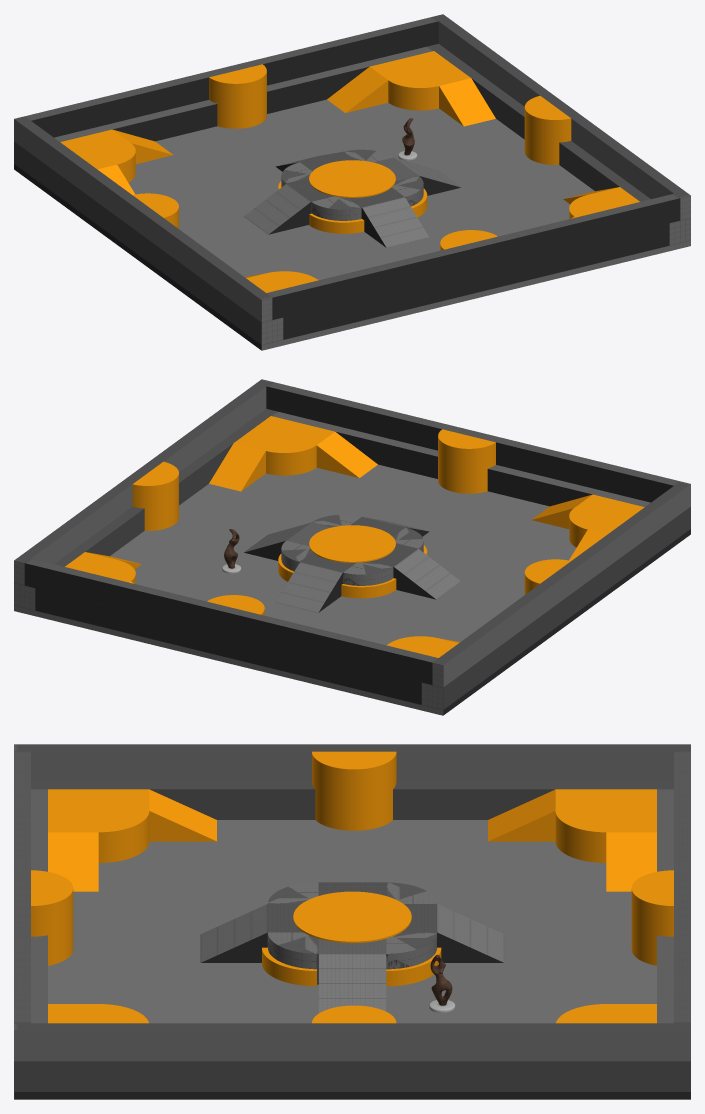
Rendered from Lvl_FirstPerson.gltf.
The picture shows the model from 3 angles, top to bottom: view 1: azimuth 30°, elevation 25°; view 2: azimuth 150°, elevation 25°; view 3: azimuth 270°, elevation 25°; orthographic projection. The views are drawn at different scales.
Parts seen in each view (by area): view 1: Floor, SM_Cube19, SM_Cube18, SM_Cube5, SM_Cube20, SM_Cube17, SM_Cube3, SM_Cube4, SM_Cube2, SM_Cylinder, SM_Ramp12, SM_Ramp9 (+17 smaller); view 2: Floor, SM_Cube18, SM_Cube19, SM_Cube4, SM_Cube20, SM_Cube17, SM_Cube3, SM_Cube5, SM_Cube2, SM_Cylinder, SM_Ramp10, SM_Ramp9 (+18 smaller); view 3: Floor, SM_Cube17, SM_Cube20, SM_Cube2, SM_Cube3, SM_Cylinder, SM_Cube18, SM_Cube19, SM_Ramp11, SM_Cylinder6, SM_Cylinder7, SM_Ramp10 (+34 smaller).
Part boxes in pixels (box(x1,y1,x2,y2)): Floor: box(14, 99, 690, 350); SM_Cube19: box(266, 193, 680, 319); SM_Cube18: box(25, 17, 438, 137); SM_Cube5: box(283, 223, 669, 339); SM_Cube20: box(14, 116, 272, 322); SM_Cube17: box(433, 14, 690, 220); SM_Cube3: box(14, 141, 283, 344); SM_Cube4: box(54, 46, 433, 141); SM_Cube2: box(428, 44, 690, 245); SM_Cylinder: box(309, 160, 395, 197); SM_Ramp12: box(362, 197, 429, 247); SM_Ramp9: box(243, 184, 311, 234); Floor: box(14, 464, 690, 715); SM_Cube18: box(24, 558, 438, 684); SM_Cube19: box(266, 382, 679, 502); SM_Cube4: box(35, 588, 421, 704); SM_Cube20: box(432, 481, 690, 687); SM_Cube17: box(14, 379, 271, 585); SM_Cube3: box(421, 506, 690, 709); SM_Cube5: box(271, 411, 650, 506); SM_Cube2: box(14, 409, 276, 610); SM_Cylinder: box(309, 525, 395, 562); SM_Ramp10: box(275, 562, 342, 612); SM_Ramp9: box(393, 549, 461, 599); Floor: box(14, 820, 690, 1099); SM_Cube17: box(14, 1023, 690, 1061); SM_Cube20: box(14, 744, 690, 782); SM_Cube2: box(14, 1061, 690, 1091); SM_Cube3: box(31, 782, 673, 819); SM_Cylinder: box(293, 891, 411, 943); SM_Cube18: box(674, 751, 690, 1023); SM_Cube19: box(14, 751, 30, 1023); SM_Ramp11: box(318, 954, 386, 1012); SM_Cylinder6: box(312, 751, 354, 830); SM_Cylinder7: box(354, 751, 396, 830); SM_Ramp10: box(437, 904, 504, 962).
Size of the model in its own units: 40 by 5 by 40.
24 materials, 23 textured.
